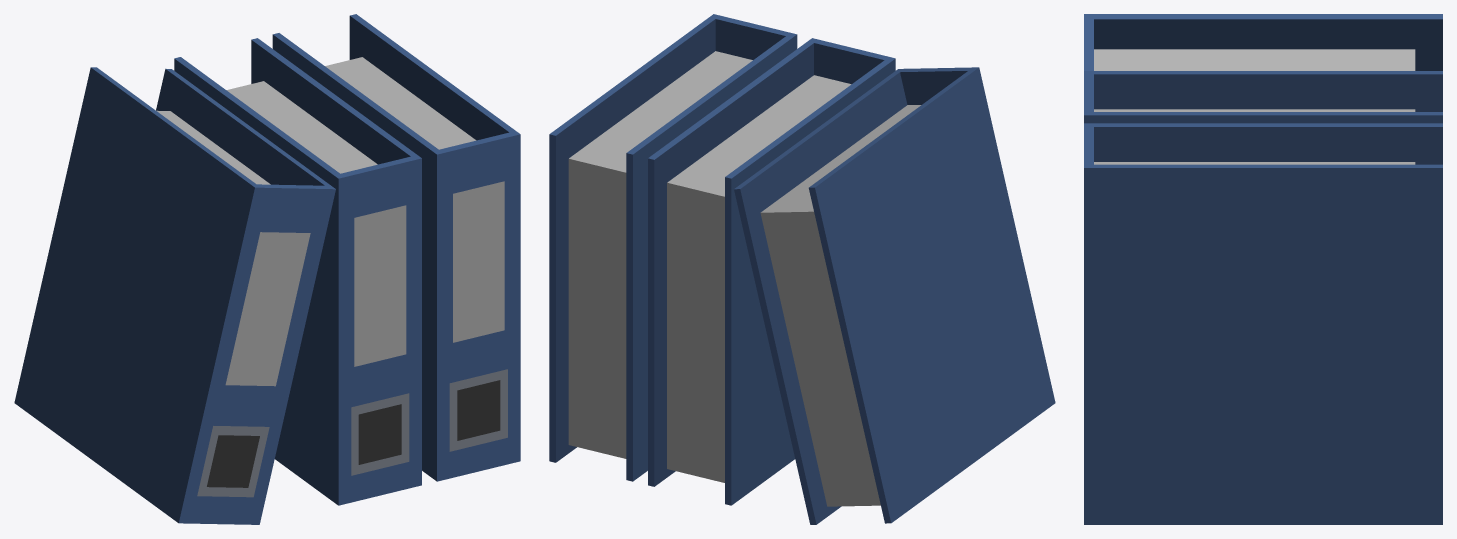
The model's file is SO_Boxfile_02.fbx.
3 views of the same model, side by side, from view 1: azimuth 30°, elevation 25°; view 2: azimuth 150°, elevation 25°; view 3: azimuth 270°, elevation 25° (orthographic). The views are drawn at different scales.
Parts seen in each view (by area): view 1: SO_Boxfile_02; view 2: SO_Boxfile_02; view 3: SO_Boxfile_02.
Part boxes in pixels (x1=…): SO_Boxfile_02: x1=14, y1=14, x2=520, y2=524; SO_Boxfile_02: x1=549, y1=14, x2=1055, y2=524; SO_Boxfile_02: x1=1084, y1=14, x2=1442, y2=524.
Size of the model in its own units: 0.7143 by 0.6757 by 0.5946.
